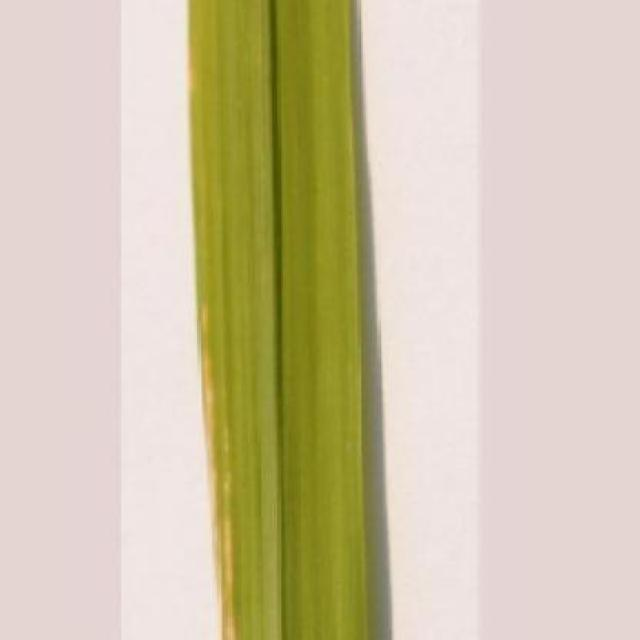Brown_Spot: (184, 0, 381, 640)
